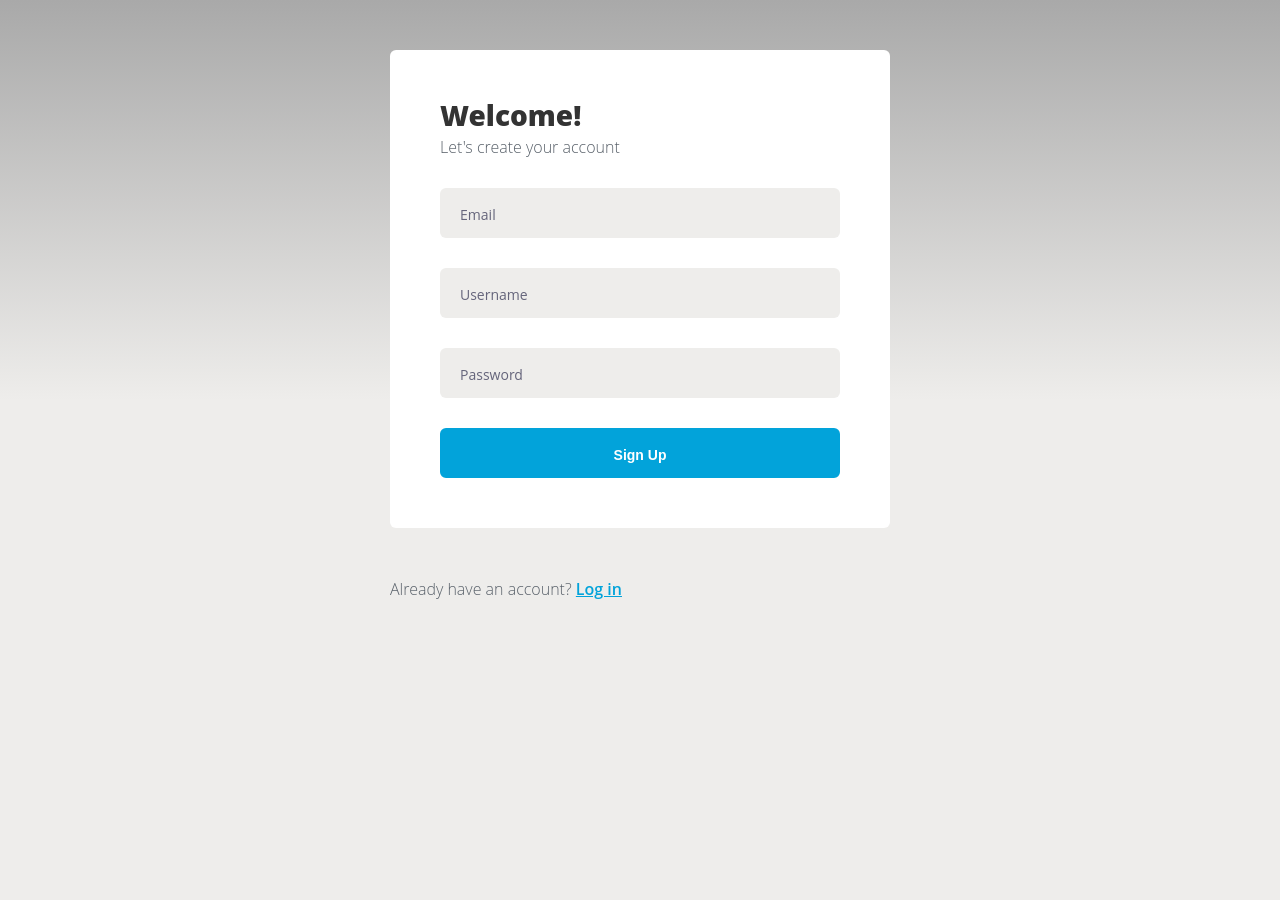
SignUp › should display form validation errors
Type "celinetest.com" into the field named "Email" at (640, 213), box top-left (440, 188), bottom-right (840, 238)
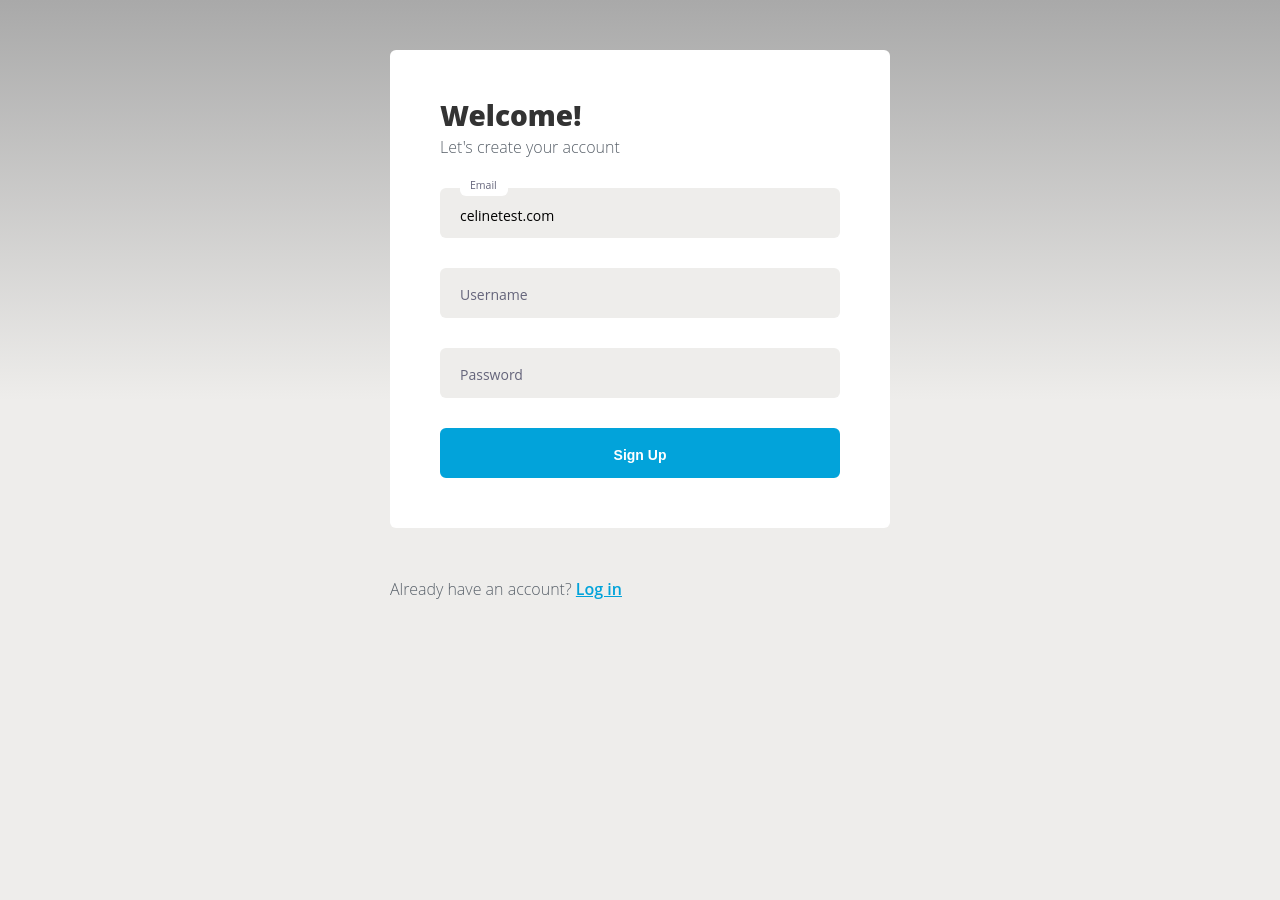
Type "abc45" into the password field named "Password" at (640, 373), box top-left (440, 348), bottom-right (840, 398)
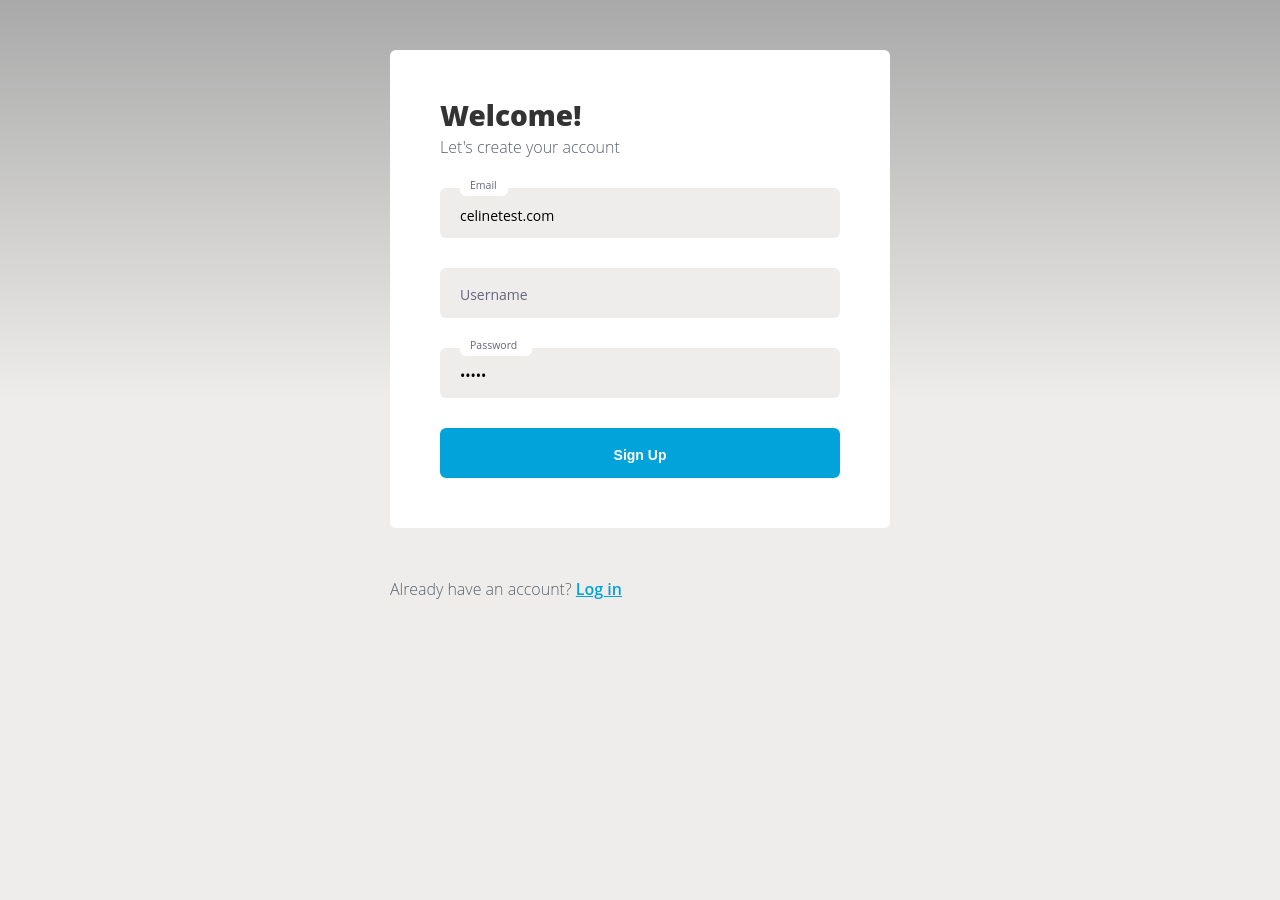
Click the button "Sign Up" at (640, 453), box top-left (440, 428), bottom-right (840, 478)
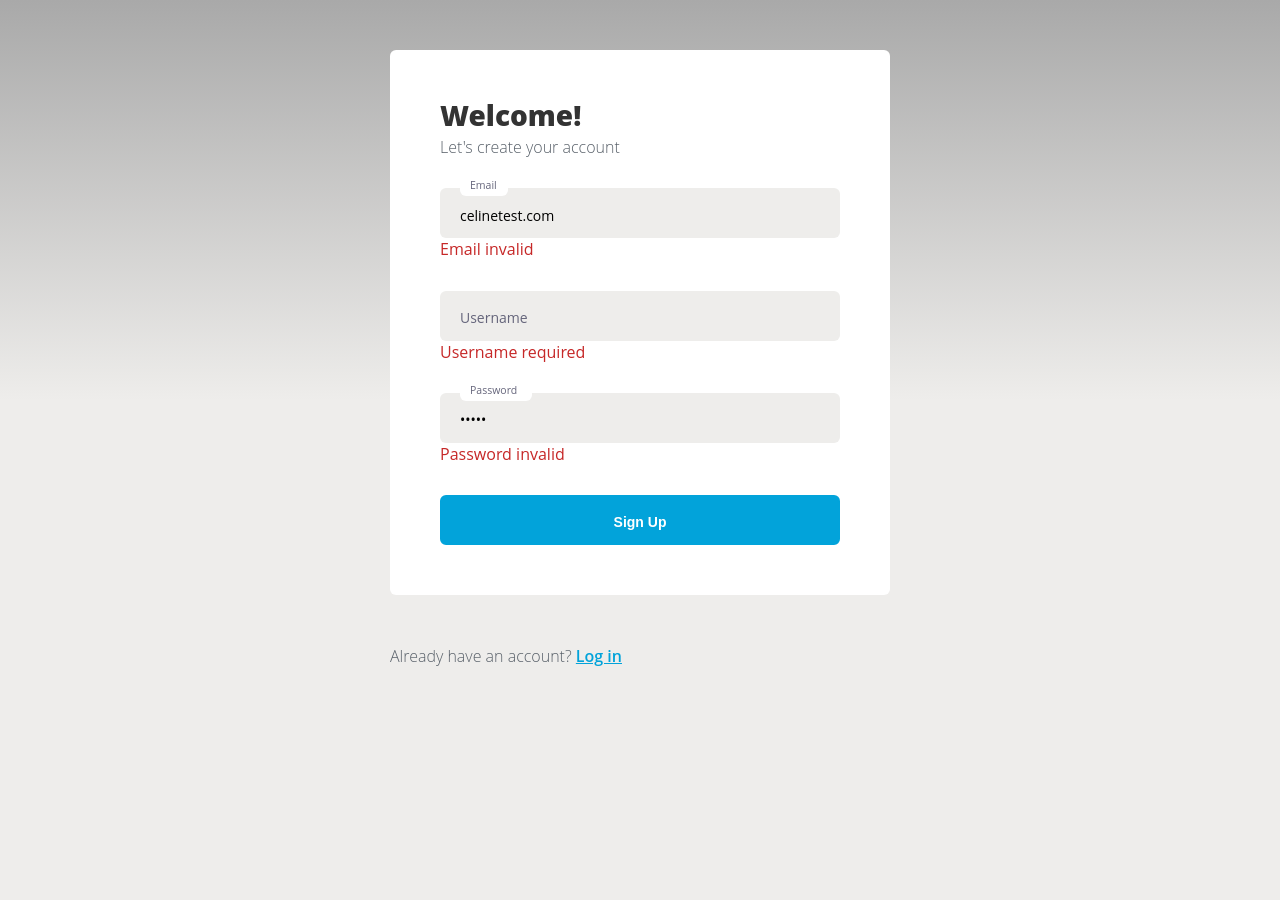
Expected: the text "Email invalid" is shown, top-left (440, 238), bottom-right (534, 260)
Expected: the text "Username required" is shown, top-left (440, 341), bottom-right (585, 363)
Expected: the text "Password invalid" is shown, top-left (440, 443), bottom-right (565, 465)
